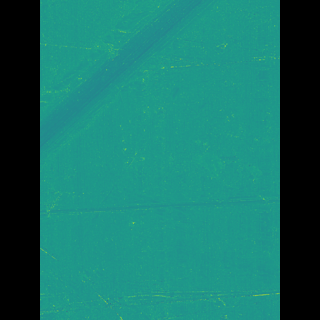Loch: (70, 0, 207, 169), (223, 17, 249, 319), (68, 185, 250, 225)
